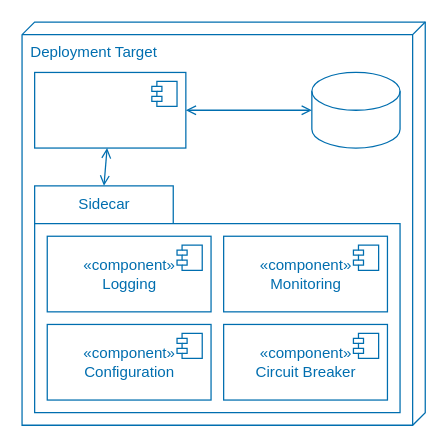
The diagram is 447 pixels wide and 447 high, and some of its shapes have lost their labels. The centre of each missing label's shape, as x and y in pixels:
"Database" belongs at pixel 355 109.
"«service» Service 1" belongs at pixel 109 109.
